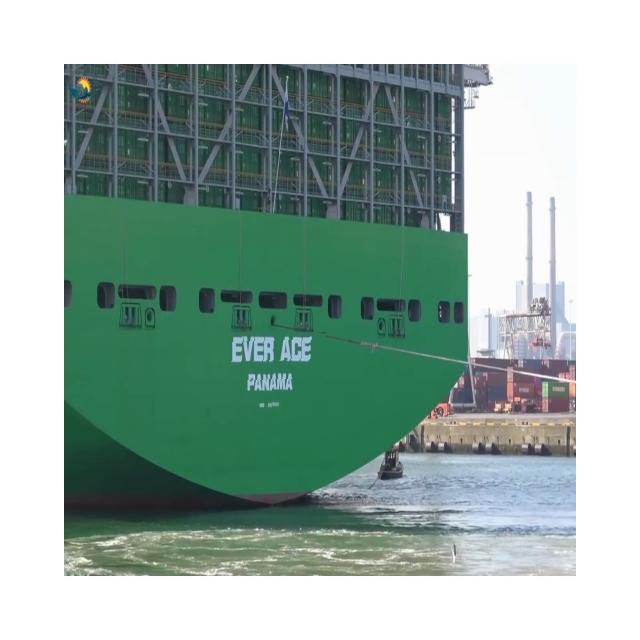OCR: (225, 332, 326, 416)
